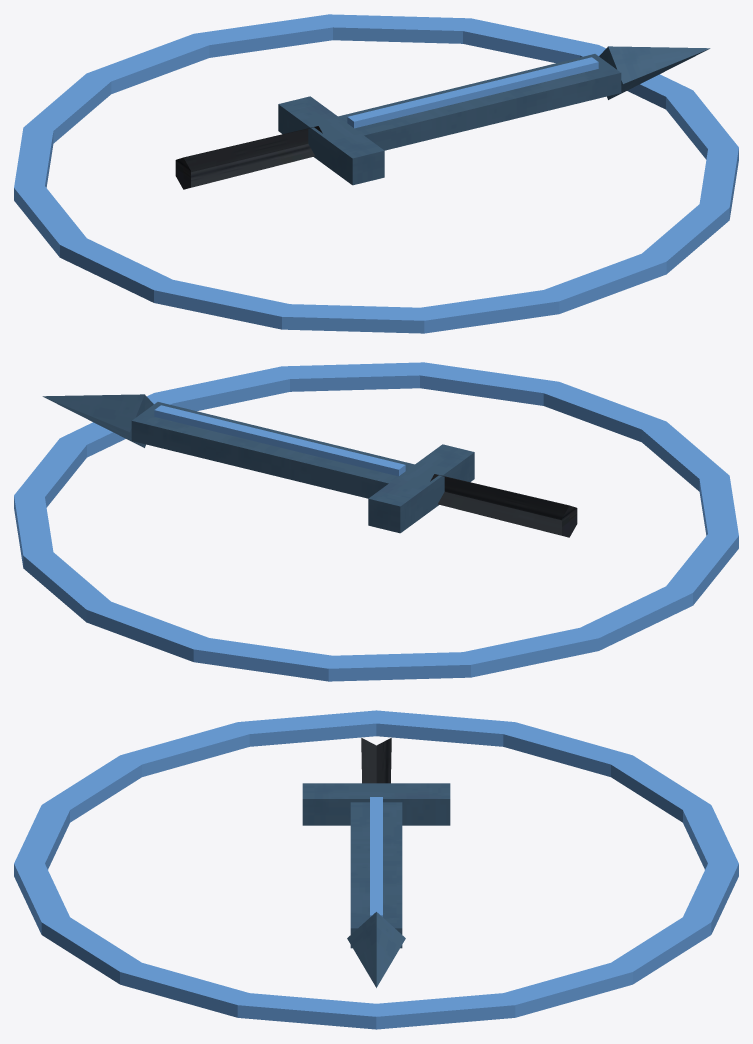
File: loot_dagger_g1.glb
The picture shows the model from 3 angles, top to bottom: view 1: azimuth 30°, elevation 25°; view 2: azimuth 150°, elevation 25°; view 3: azimuth 270°, elevation 25°; orthographic projection.
Parts seen in each view (by area): view 1: loot_dagger_g1; view 2: loot_dagger_g1; view 3: loot_dagger_g1.
Part boxes in pixels (bbox=[...]): loot_dagger_g1: bbox=[14, 14, 738, 333]; loot_dagger_g1: bbox=[14, 362, 738, 681]; loot_dagger_g1: bbox=[14, 710, 738, 1029].
Bounding box in the file's own units: 1.01 × 0.115 × 0.984.
Materials: 3 (2 with a texture image).
